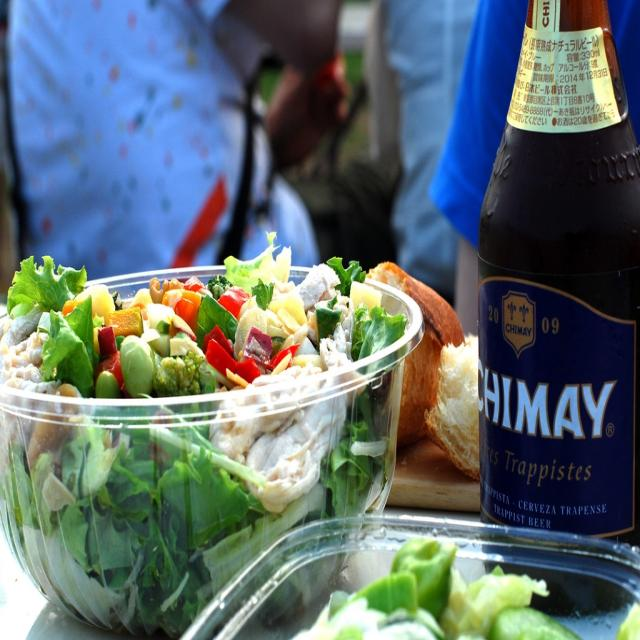chimay: (479, 280, 639, 539)
